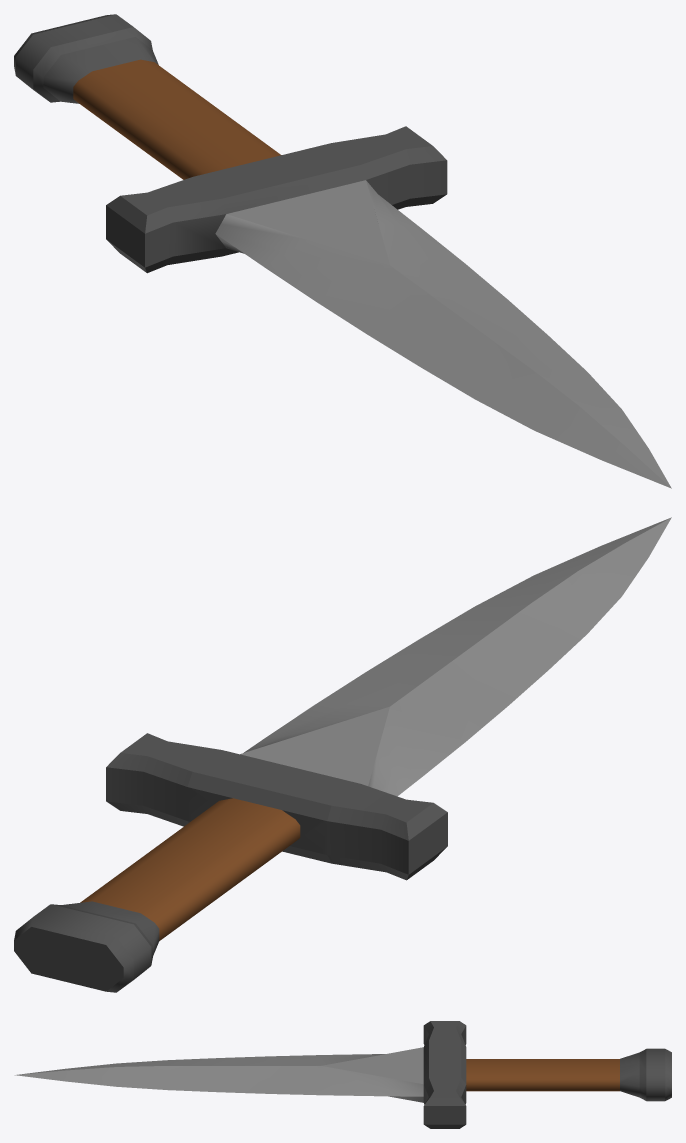
Rendered from Knife001.FBX.
The picture shows the model from 3 angles, top to bottom: view 1: azimuth 30°, elevation 25°; view 2: azimuth 150°, elevation 25°; view 3: azimuth 270°, elevation 25°; orthographic projection. The views are drawn at different scales.
Visible parts, largest first — view 1: Blade; view 2: Blade; view 3: Blade.
Boxes of the visible parts, x1=… form: Blade: x1=14, y1=14, x2=671, y2=488; Blade: x1=14, y1=517, x2=671, y2=992; Blade: x1=14, y1=1021, x2=671, y2=1128.
Size of the model in its own units: 1.86 by 0.3413 by 6.42.
